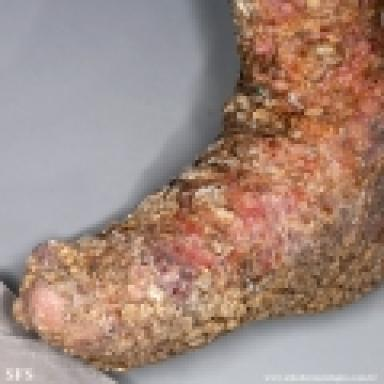Darier_s-Disease: (12, 0, 384, 373)
